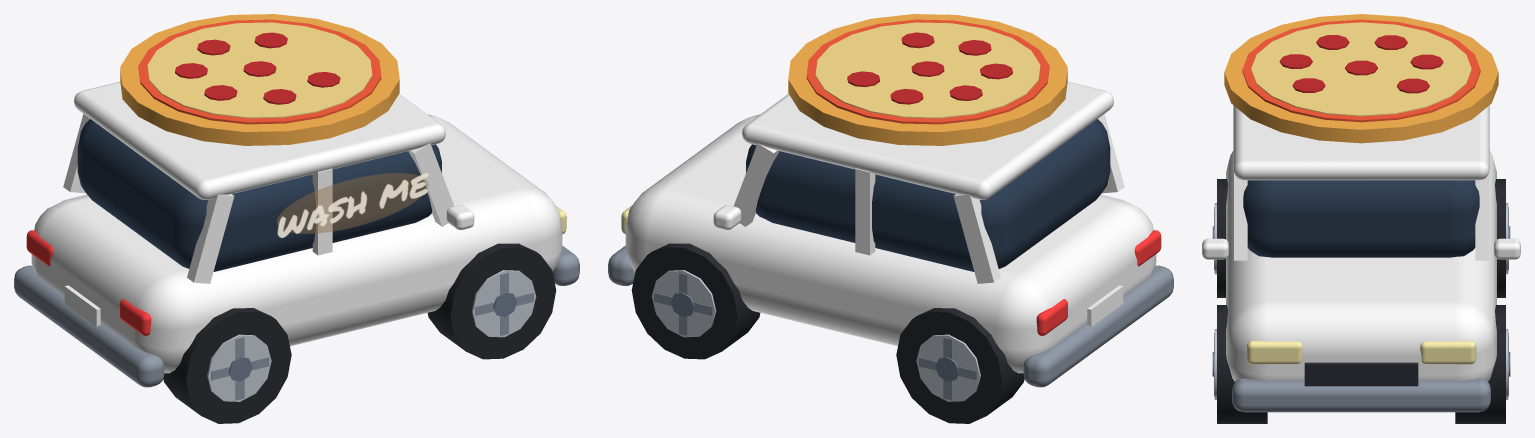
Rendered from car_pizza.glb.
3 views of the same model, side by side, from view 1: azimuth 30°, elevation 25°; view 2: azimuth 150°, elevation 25°; view 3: azimuth 270°, elevation 25° (orthographic). The views are drawn at different scales.
Parts seen in each view (by area): view 1: Paint, Trim, Wheel1, Wheel0, WashMe; view 2: Paint, Trim, Wheel3, Wheel2; view 3: Trim, Paint, Wheel0, Wheel2, Wheel1, Wheel3.
Boxes of the visible parts, box(x1,y1,x2,y2) form: Paint: box(31, 81, 562, 373); Trim: box(14, 14, 579, 387); Wheel1: box(163, 308, 291, 423); Wheel0: box(427, 243, 556, 359); WashMe: box(277, 172, 428, 237); Paint: box(625, 81, 1156, 373); Trim: box(608, 14, 1173, 387); Wheel3: box(896, 308, 1024, 423); Wheel2: box(631, 243, 760, 359); Trim: box(1224, 14, 1498, 412); Paint: box(1202, 105, 1520, 381); Wheel0: box(1212, 305, 1267, 423); Wheel2: box(1455, 305, 1510, 423); Wheel1: box(1212, 179, 1227, 297); Wheel3: box(1495, 179, 1510, 297).
Bounding box in the file's own units: 3.34 × 2.01 × 2.14.
7 materials, 1 textured.
